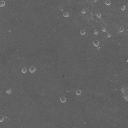corrosion: (27, 65, 37, 74), (120, 88, 128, 99), (92, 39, 101, 47), (20, 66, 28, 74), (117, 26, 126, 33), (5, 88, 13, 95), (59, 96, 67, 103), (75, 89, 83, 96), (62, 11, 70, 18), (79, 29, 87, 36), (119, 5, 127, 11), (1, 1, 7, 8), (95, 12, 102, 18), (104, 1, 112, 6), (80, 8, 86, 14), (101, 27, 107, 33), (93, 30, 98, 35), (107, 33, 112, 38), (1, 115, 4, 123)
